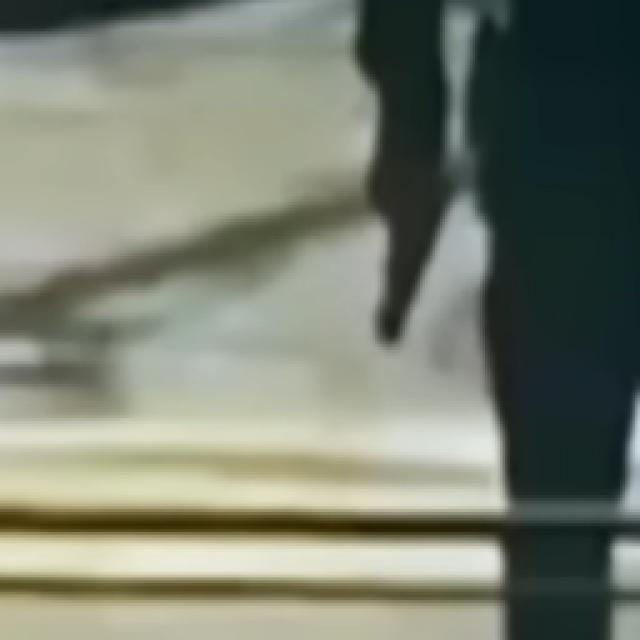FPistol: (373, 169, 464, 349)
